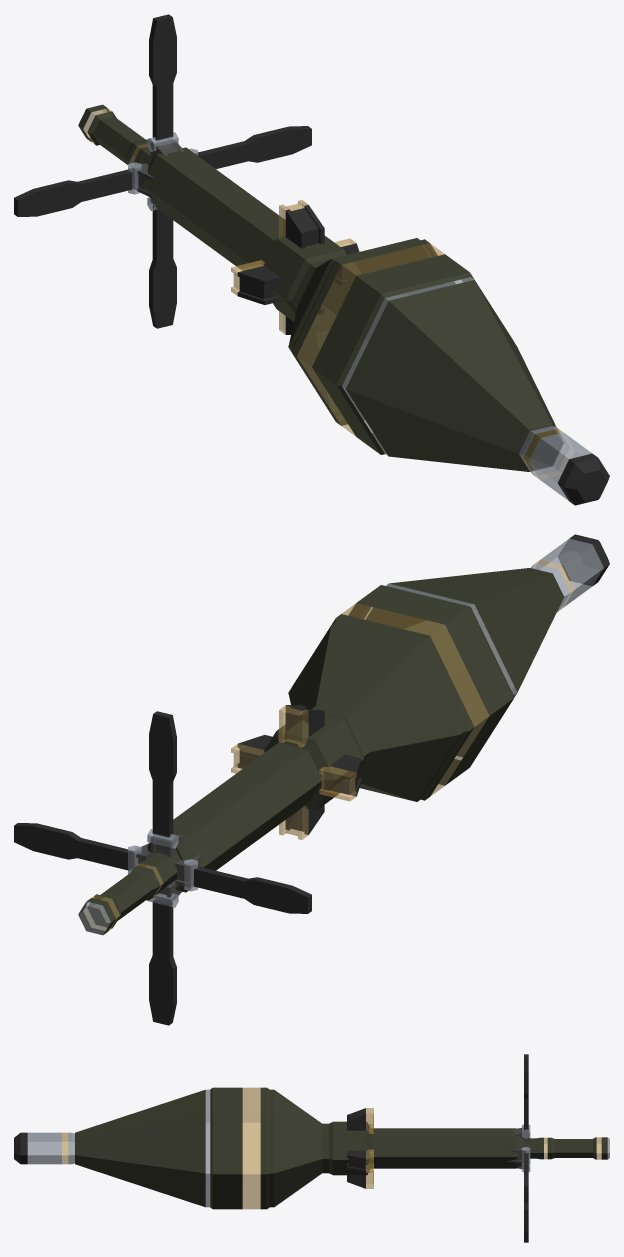
Rendered from RocketGrenade.fbx.
3 views of the same model, one above another, from view 1: azimuth 30°, elevation 25°; view 2: azimuth 150°, elevation 25°; view 3: azimuth 270°, elevation 25° (orthographic). The views are drawn at different scales.
Visible parts, largest first — view 1: Cylinder.001; view 2: Cylinder.001; view 3: Cylinder.001.
Part boxes in pixels (x1=…): Cylinder.001: x1=14, y1=14, x2=609, y2=505; Cylinder.001: x1=14, y1=534, x2=609, y2=1025; Cylinder.001: x1=14, y1=1054, x2=609, y2=1242.
Size of the model in its own units: 88.96 by 88.96 by 262.
